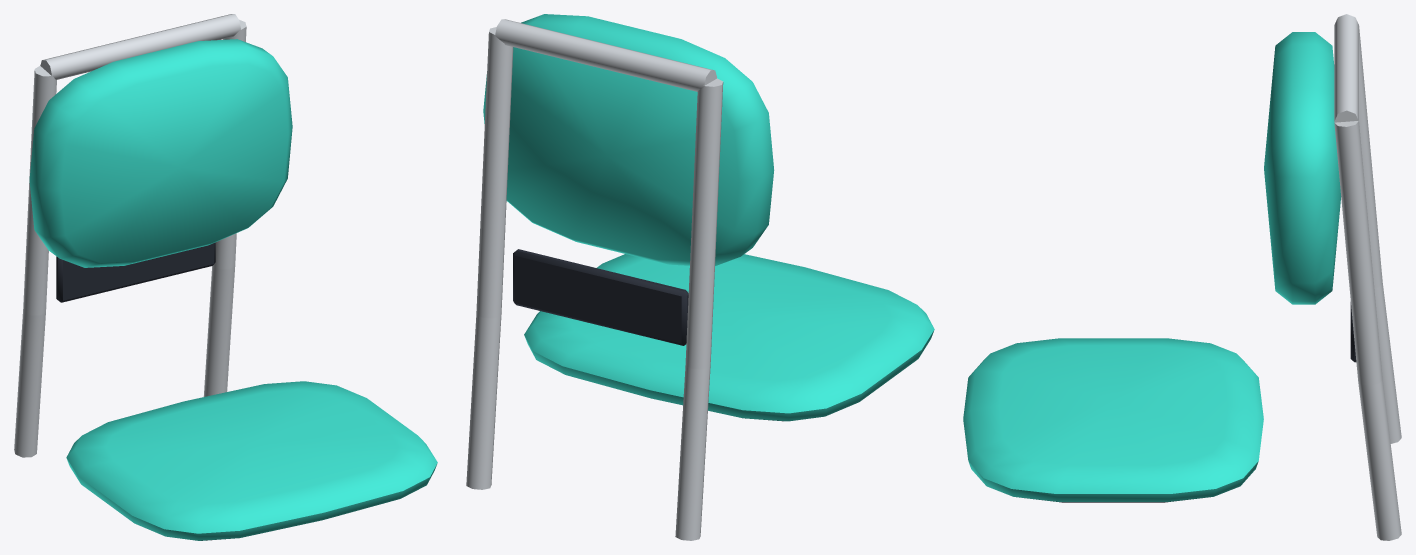
File: gear_backrest.glb
3 renders of one model, left to right at view 1: azimuth 30°, elevation 25°; view 2: azimuth 150°, elevation 25°; view 3: azimuth 270°, elevation 25°, orthographic. The views are drawn at different scales.
Visible parts, largest first — view 1: backrest; view 2: backrest; view 3: backrest.
Part boxes in pixels (bbox=[...]): backrest: bbox=[14, 14, 437, 540]; backrest: bbox=[466, 14, 934, 540]; backrest: bbox=[963, 14, 1401, 540].
Bounding box in the file's own units: 0.3728 × 0.4944 × 0.4609.
